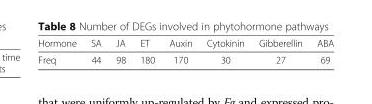table: (37, 37, 333, 65)
table column: (250, 37, 308, 65), (198, 37, 250, 65), (37, 37, 82, 65), (161, 37, 198, 65), (132, 37, 161, 65), (82, 37, 108, 65), (308, 37, 333, 65), (108, 37, 132, 65)
table column header: (37, 37, 333, 51)
table row: (37, 37, 333, 51), (37, 51, 333, 65)
